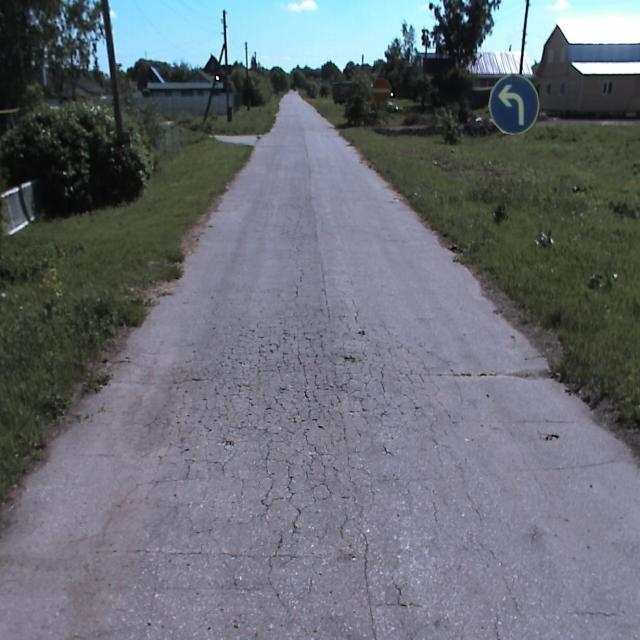road: (0, 99, 639, 639)
